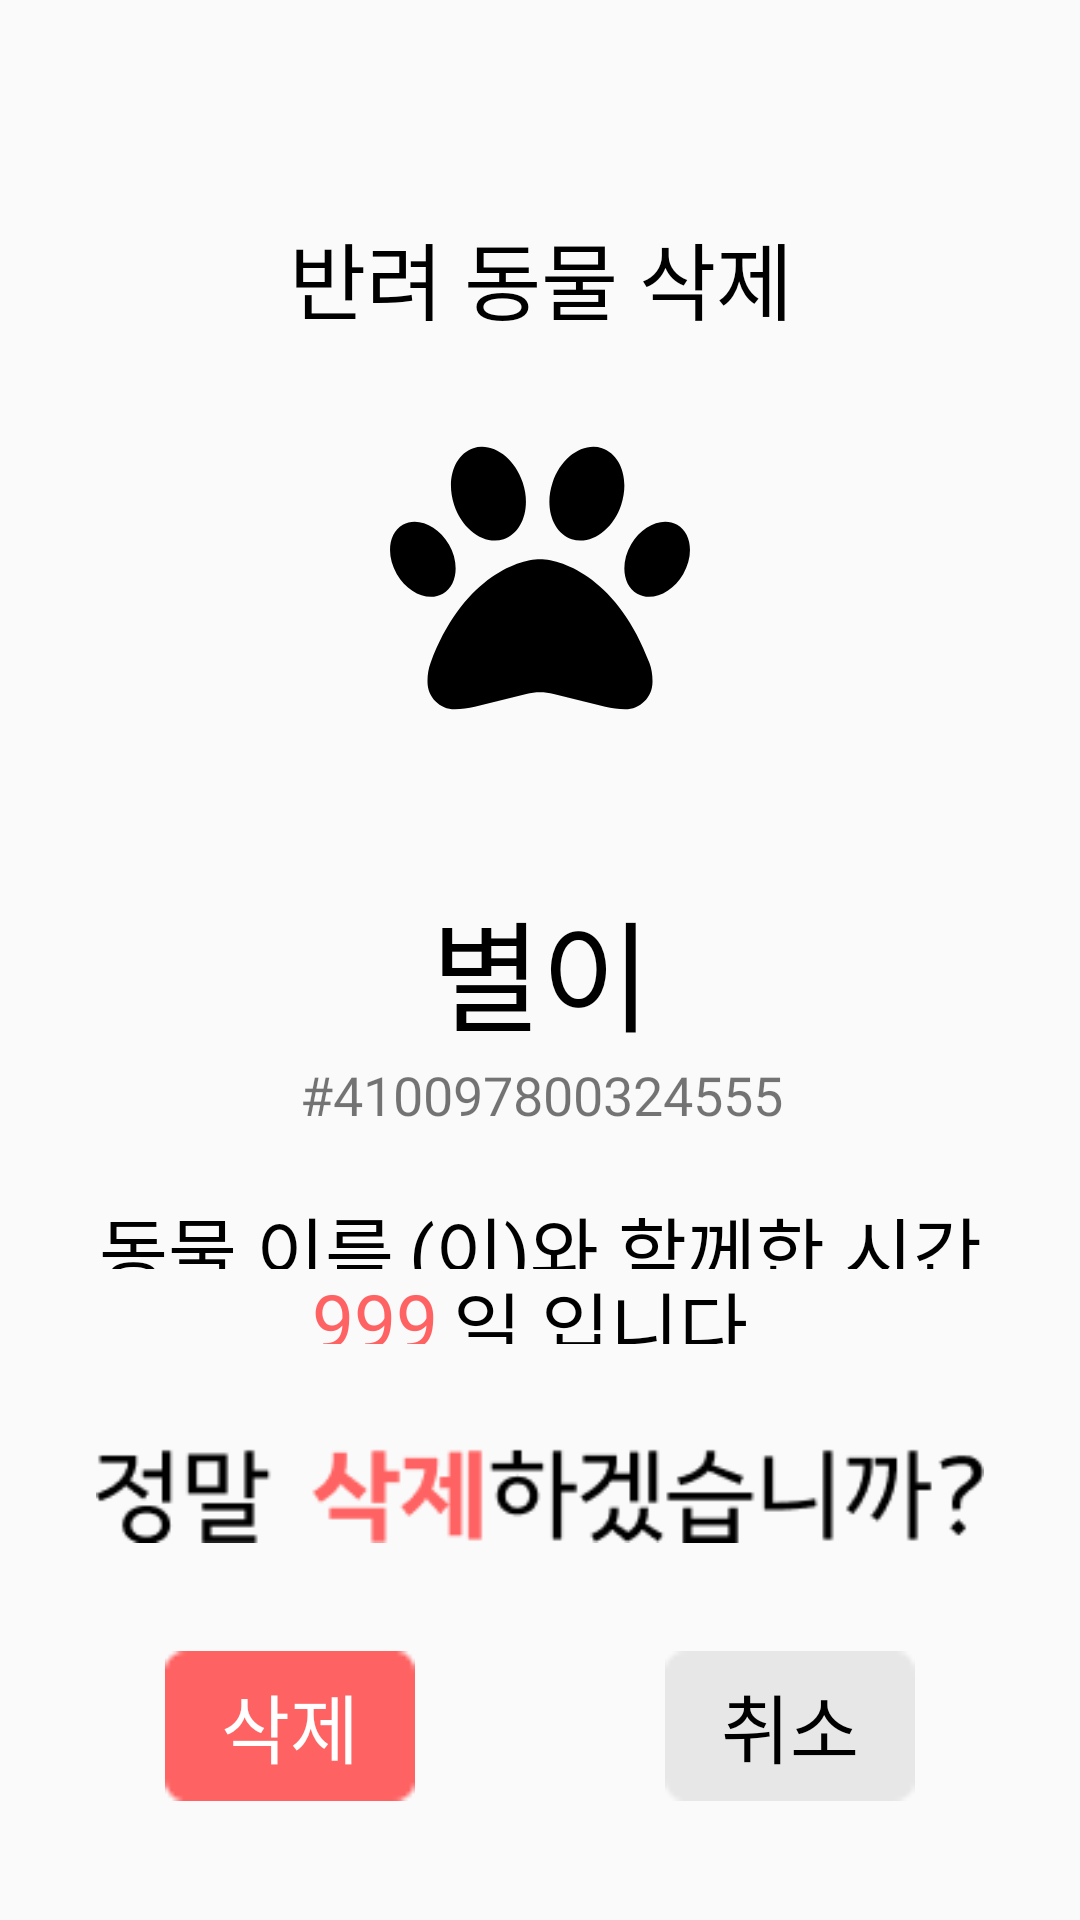

Icons on this 1080w x 1920h Android screen, each with the point to tap as (x=x, y=y):
paw: (x=540, y=578)
